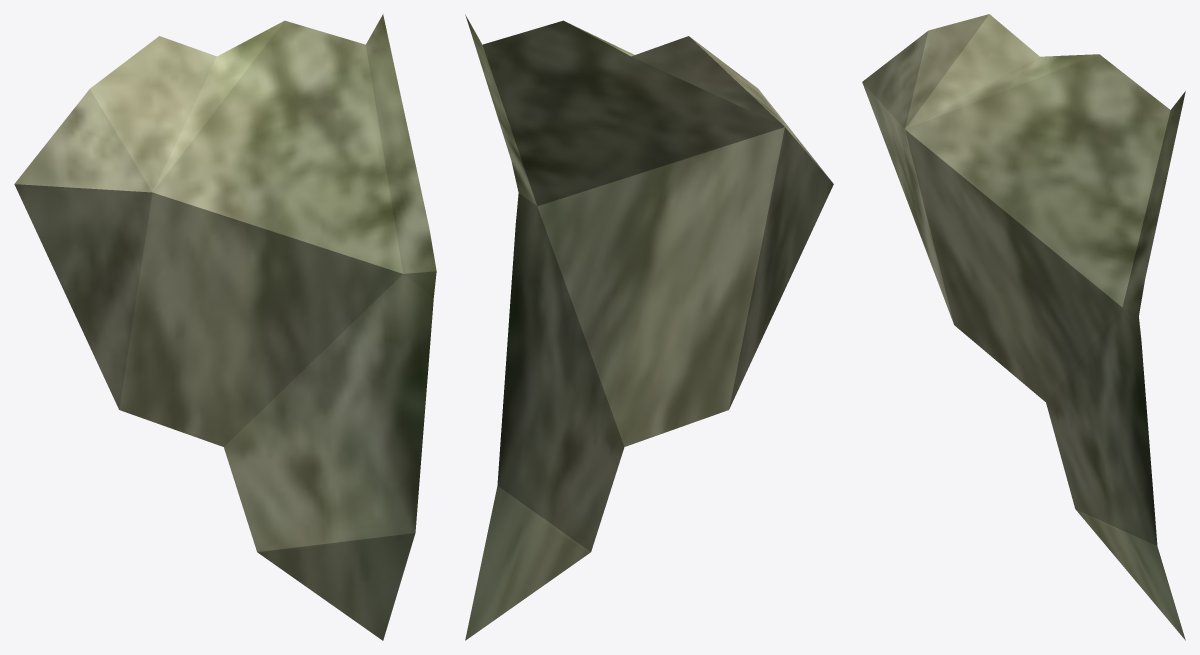
3 renders of one model, left to right at view 1: azimuth 30°, elevation 25°; view 2: azimuth 150°, elevation 25°; view 3: azimuth 330°, elevation 25°, orthographic. The views are drawn at different scales.
Bounding box in the file's own units: 0.881 × 1.51 × 0.2215.
1 material, 1 textured.
